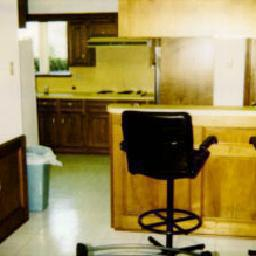Bote de Basura: (26, 146, 52, 213)
